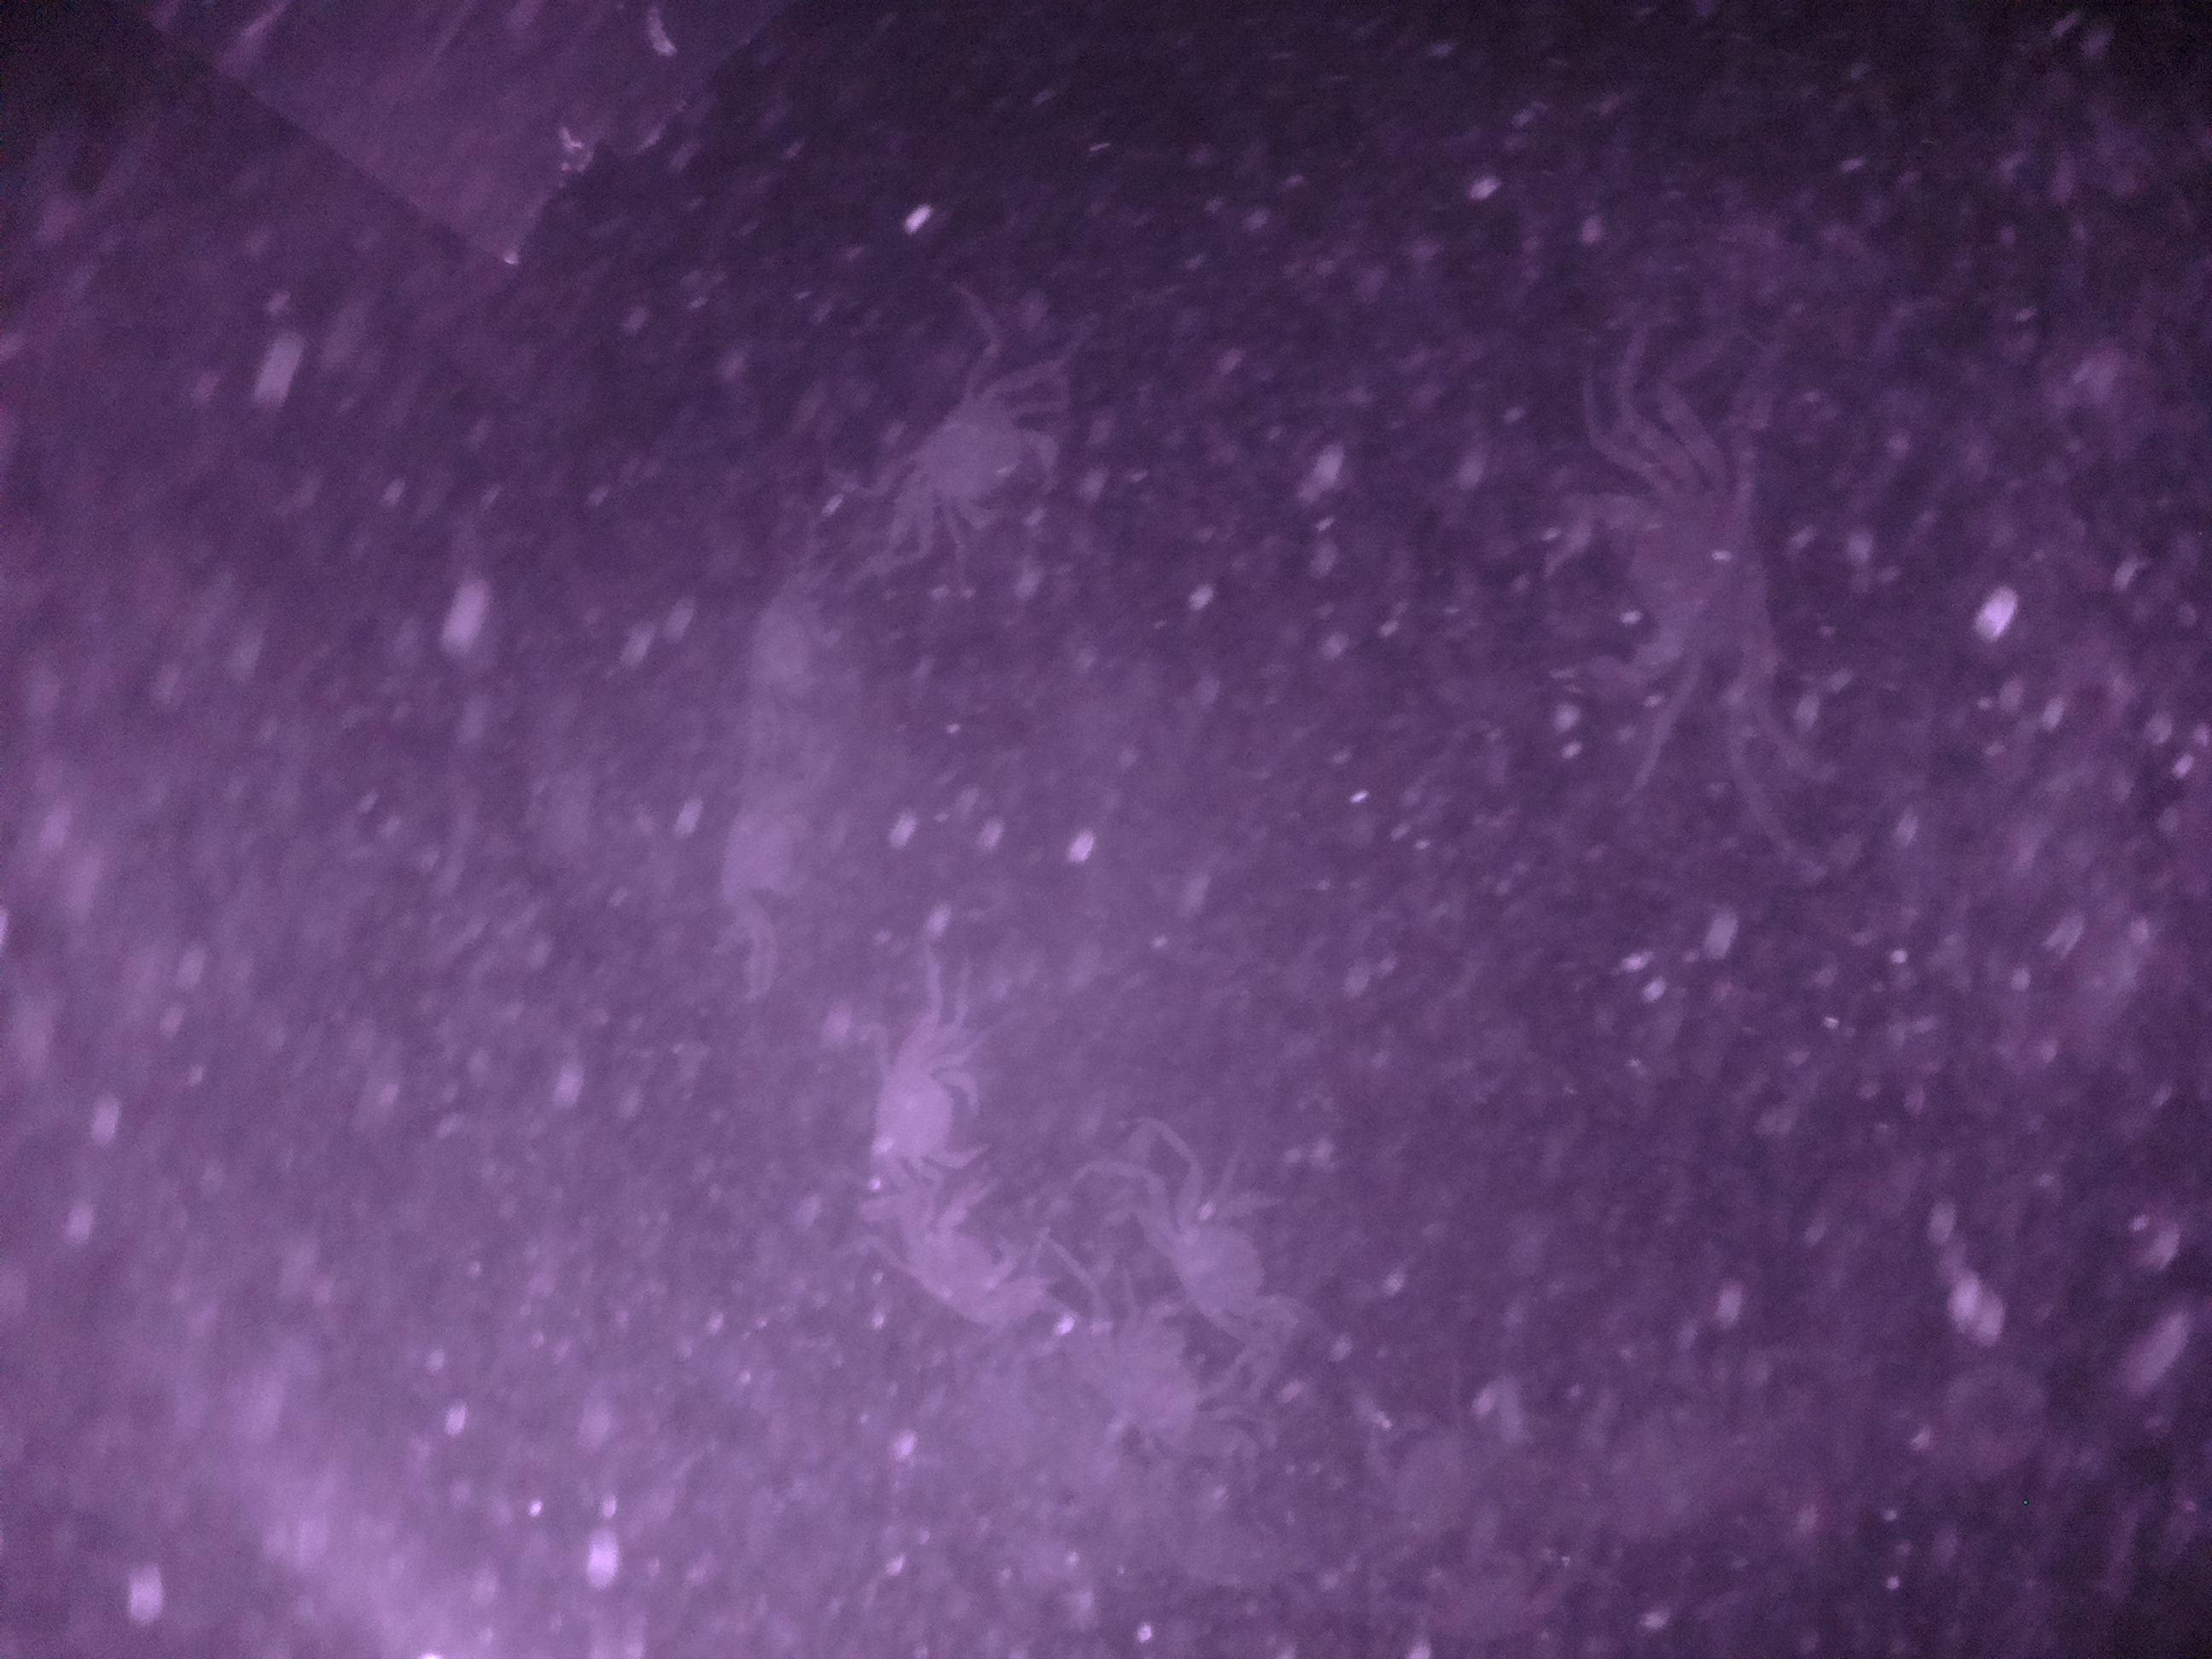Crab: (1519, 446, 1804, 732), (1113, 1159, 1317, 1356), (899, 371, 1078, 565), (853, 1009, 1000, 1190)
